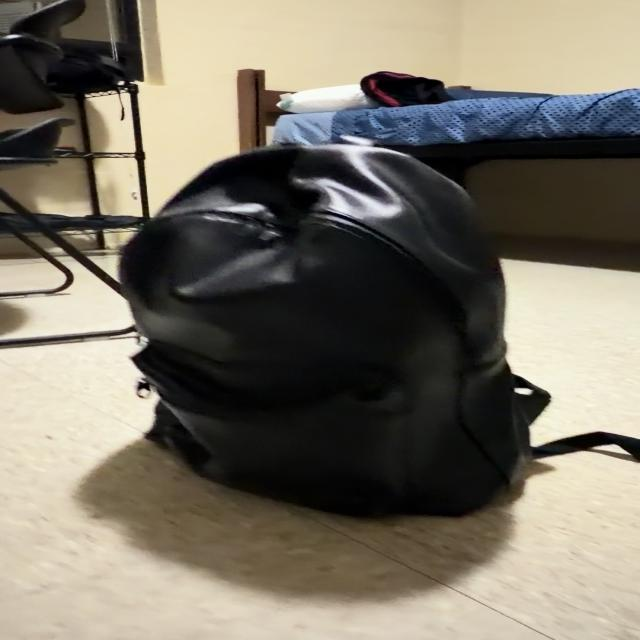backpack: (120, 144, 640, 515), (47, 49, 128, 94)
